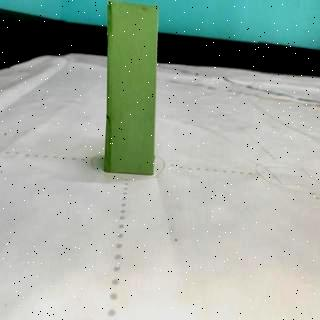greenbox: (106, 0, 158, 174)
